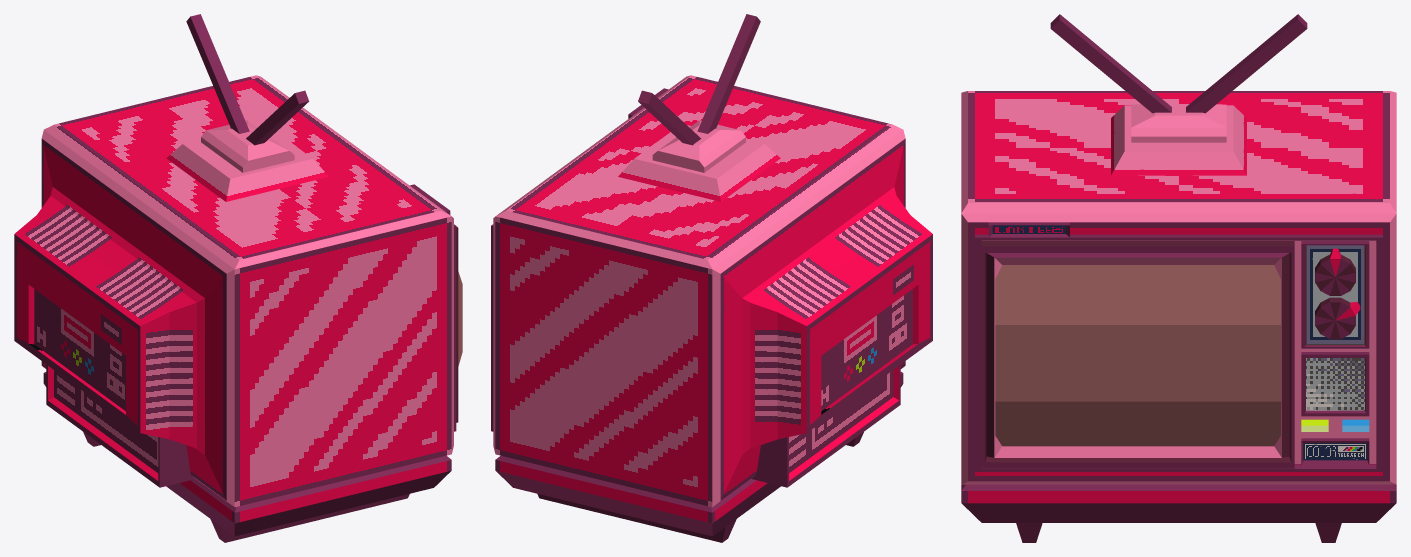
The model's file is crtTV.glb.
3 views of the same model, side by side, from view 1: azimuth 30°, elevation 25°; view 2: azimuth 150°, elevation 25°; view 3: azimuth 270°, elevation 25° (orthographic). The views are drawn at different scales.
Visible parts, largest first — view 1: TV case, Stand, antenna cube, back cube, Antenna 1, Antenna 2, foot 1, main hoop, Screen hoop; view 2: TV case, Stand, antenna cube, back cube, Antenna 2, Antenna 1, foot 2, main hoop; view 3: TV case, screen glass, Screen hoop, Stand, antenna cube, main hoop, stereo plane, button plane, Antenna 2, Antenna 1, dial hoop, dial 1 (+6 smaller).
Part boxes in pixels (x1,y1,x2,y2): TV case: (14,75,453,506); Stand: (43,372,451,536); antenna cube: (166,120,328,201); back cube: (46,364,195,487); Antenna 1: (186,14,249,133); Antenna 2: (246,90,309,145); foot 1: (210,493,409,542); main hoop: (454,224,456,431); Screen hoop: (456,226,458,422); TV case: (493,75,932,507); Stand: (495,372,903,536); antenna cube: (618,120,780,201); back cube: (751,365,900,487); Antenna 2: (697,14,760,133); Antenna 1: (638,90,701,145); foot 2: (537,494,736,542); main hoop: (491,224,493,431); TV case: (961,91,1396,484); screen glass: (995,265,1280,446); Screen hoop: (981,241,1294,468); Stand: (961,484,1396,522); antenna cube: (1111,104,1246,175); main hoop: (975,234,1382,471); stereo plane: (1306,358,1364,410); button plane: (1306,245,1364,344); Antenna 2: (1050,14,1171,113); Antenna 1: (1186,14,1307,113); dial hoop: (1301,241,1369,348); dial 1: (1315,297,1360,339).
Size of the model in its own units: 0.8642 by 1.13 by 0.9374.
Materials: 16 (16 with a texture image).
